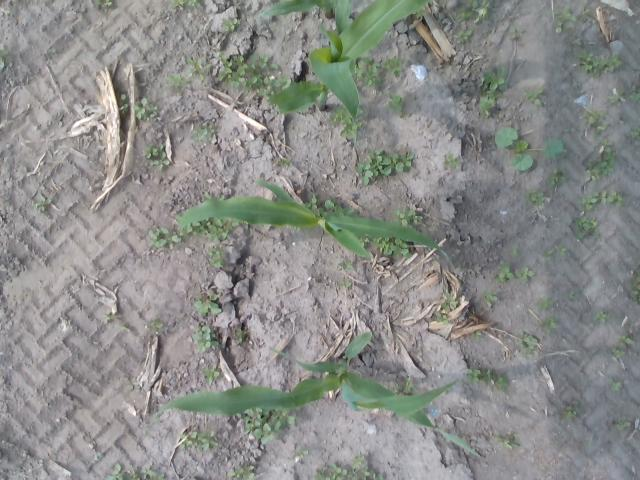Maize: (145, 330, 479, 456), (178, 177, 452, 262), (267, 1, 428, 142), (260, 0, 338, 18)
Weeds: (494, 126, 568, 173), (581, 107, 618, 184), (217, 54, 290, 92), (354, 151, 418, 188), (242, 409, 302, 447), (310, 455, 388, 480), (476, 65, 510, 118), (357, 56, 407, 92), (576, 52, 626, 79), (466, 368, 512, 394), (454, 0, 496, 28), (494, 261, 539, 286), (432, 292, 463, 326), (185, 326, 222, 354), (580, 190, 626, 212), (178, 430, 220, 452), (192, 293, 225, 320), (185, 224, 233, 242), (186, 54, 214, 84), (570, 214, 600, 242), (553, 5, 580, 36), (374, 238, 413, 259), (330, 106, 356, 136), (190, 122, 220, 146), (144, 144, 171, 170), (132, 98, 158, 124), (147, 227, 180, 246), (165, 73, 188, 100), (540, 246, 570, 266), (518, 330, 541, 356), (393, 208, 426, 226), (611, 334, 632, 362), (104, 462, 136, 480), (324, 198, 356, 216), (628, 260, 640, 308), (606, 90, 640, 106), (440, 153, 464, 174), (386, 95, 406, 120), (226, 464, 256, 480), (227, 325, 251, 345), (206, 248, 226, 272), (548, 169, 572, 189), (524, 191, 548, 210), (202, 363, 221, 386), (526, 86, 544, 110), (132, 468, 167, 480), (35, 198, 58, 216), (535, 296, 560, 312), (540, 316, 558, 338), (482, 286, 500, 308), (270, 156, 295, 171), (561, 404, 579, 424), (394, 376, 415, 393), (170, 0, 206, 9), (220, 18, 238, 36), (292, 448, 312, 464), (499, 435, 520, 449), (614, 416, 632, 432), (456, 27, 472, 45), (93, 0, 115, 12), (627, 125, 640, 144), (144, 319, 164, 331), (593, 310, 607, 327), (337, 258, 355, 271), (305, 196, 319, 212), (0, 48, 8, 73), (103, 310, 117, 324), (508, 24, 520, 40), (336, 279, 352, 290), (582, 6, 593, 22), (120, 95, 130, 112), (95, 450, 107, 462), (611, 381, 623, 392), (510, 246, 520, 256), (570, 290, 579, 300), (572, 38, 582, 47), (633, 66, 640, 72)
